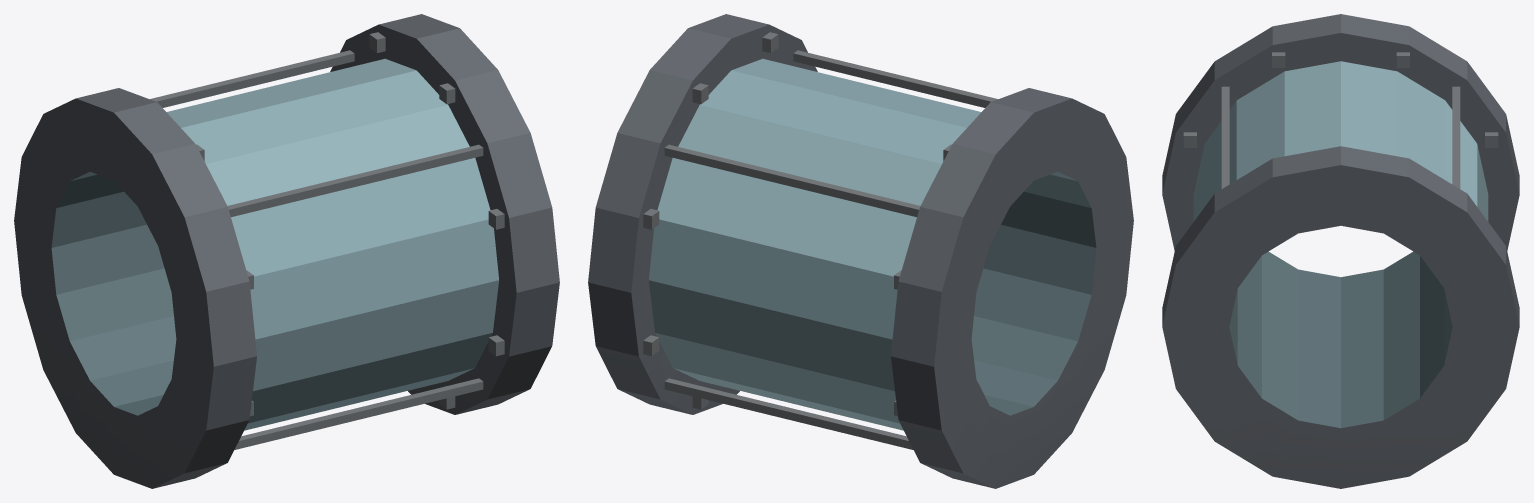
The model's file is pipe.glass.clear.glb.
3 renders of one model, left to right at view 1: azimuth 30°, elevation 25°; view 2: azimuth 150°, elevation 25°; view 3: azimuth 270°, elevation 25°, orthographic. The views are drawn at different scales.
Visible parts, largest first — view 1: pipe_glass_clear; view 2: pipe_glass_clear; view 3: pipe_glass_clear.
Part boxes in pixels (<box>): pipe_glass_clear: <box>14,14,559,488</box>; pipe_glass_clear: <box>588,14,1133,488</box>; pipe_glass_clear: <box>1162,14,1519,488</box>.
Size of what is drawn, in the model's own units: 1.6 by 1.6 by 1.6.
